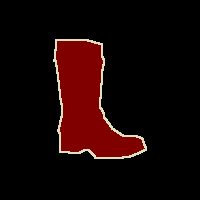shoe: (54, 40, 146, 158)
